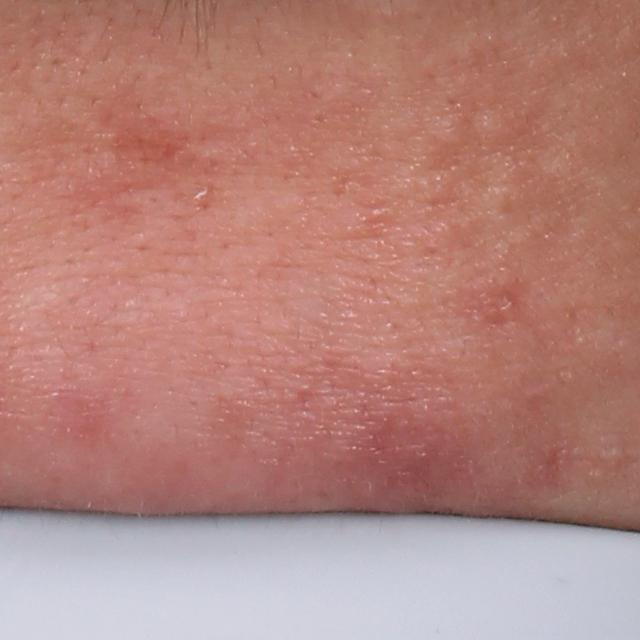hypertrophic_scar: (389, 155, 460, 214), (482, 177, 528, 225), (469, 105, 515, 148), (426, 112, 465, 149)
